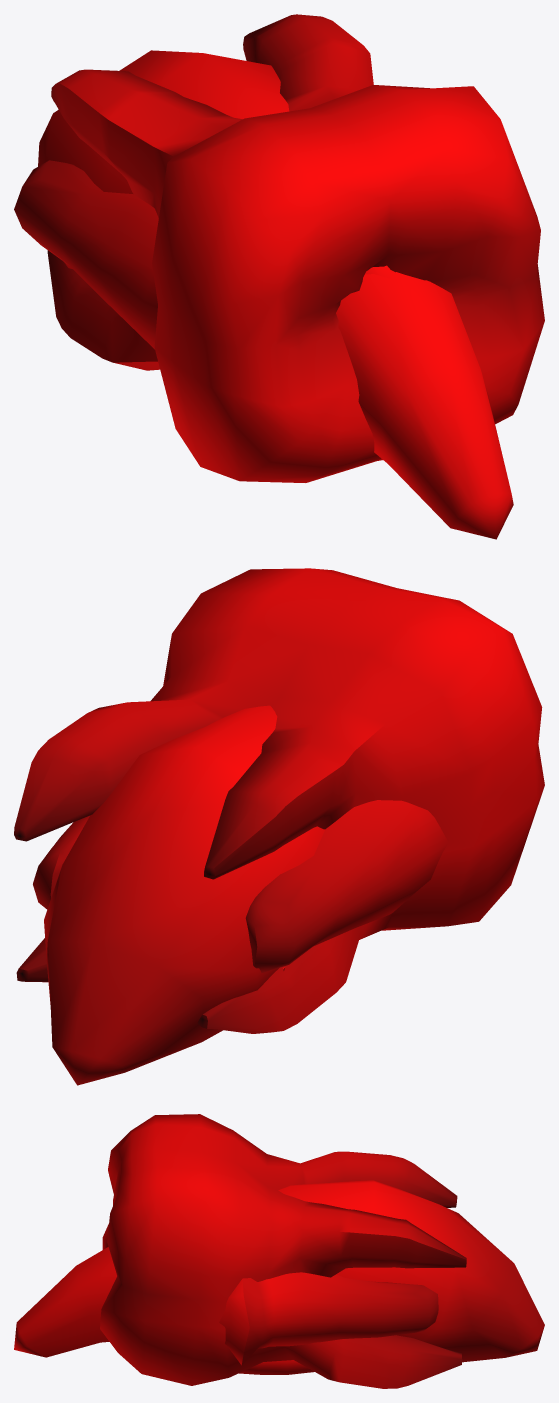
The model's file is AnimalParts_Tooth.fbx.
3 renders of one model, top to bottom at view 1: azimuth 30°, elevation 25°; view 2: azimuth 150°, elevation 25°; view 3: azimuth 270°, elevation 25°, orthographic. The views are drawn at different scales.
Parts seen in each view (by area): view 1: alt6, alt3, alt1; view 2: alt6, alt3, alt1; view 3: alt6, alt3, alt1, alt4.
Boxes of the visible parts, x1,y1,x2,y2 form: alt6: (47,14,544,482); alt3: (38,50,513,539); alt1: (14,160,390,349); alt6: (14,568,544,1033); alt3: (44,705,324,1085); alt1: (33,800,448,973); alt6: (100,1114,466,1388); alt3: (14,1180,544,1362); alt1: (219,1272,438,1365); alt4: (239,1360,314,1374).
Bounding box in the file's own units: 40.43 × 35.64 × 83.76.
